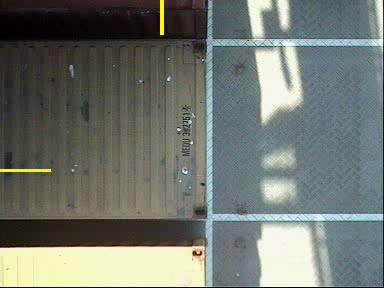groundmarker_2: (203, 201, 231, 239), (205, 24, 233, 62)
